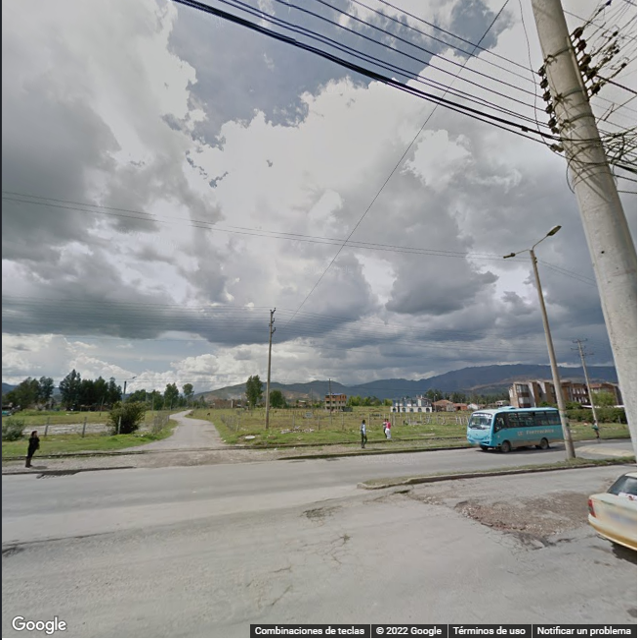D00: (256, 582, 292, 613), (306, 533, 350, 548), (254, 562, 299, 575)
D40: (456, 493, 569, 545)
